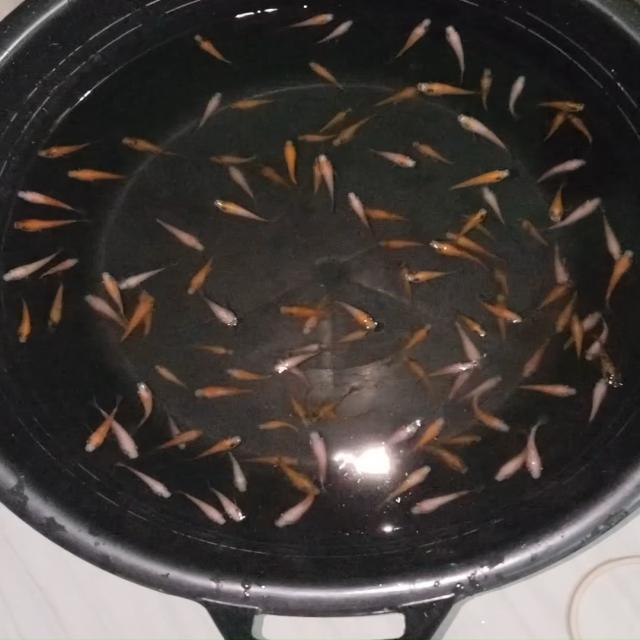nila: (93, 397, 142, 460), (372, 462, 430, 512), (1, 244, 68, 286), (82, 393, 124, 453), (547, 192, 606, 234), (456, 112, 514, 154), (408, 484, 481, 517), (428, 238, 491, 274), (16, 186, 88, 217), (398, 417, 446, 463), (82, 292, 132, 336), (387, 16, 432, 64), (118, 294, 160, 344), (600, 248, 634, 308), (119, 462, 170, 502), (272, 486, 318, 530), (445, 230, 508, 262), (590, 332, 624, 390), (152, 217, 208, 252), (452, 318, 487, 374), (453, 368, 504, 406), (307, 386, 358, 424), (212, 195, 276, 225), (195, 288, 240, 330), (186, 434, 248, 464), (118, 259, 176, 291), (472, 290, 525, 325), (468, 394, 513, 434), (398, 352, 440, 394), (206, 481, 248, 523), (494, 440, 535, 483), (422, 438, 470, 474), (181, 492, 229, 528), (560, 308, 602, 349), (524, 416, 550, 482), (278, 458, 322, 497), (346, 202, 414, 227), (118, 134, 182, 160), (332, 112, 378, 148), (96, 270, 129, 320), (334, 295, 379, 331), (442, 167, 512, 190), (306, 429, 330, 496), (532, 278, 570, 318), (532, 156, 586, 184), (150, 426, 204, 454), (40, 252, 92, 281), (189, 90, 223, 134), (298, 291, 330, 337), (186, 250, 218, 296), (268, 350, 329, 374), (476, 182, 510, 225), (542, 176, 570, 228), (444, 24, 468, 84), (522, 332, 552, 380), (443, 361, 475, 406), (460, 210, 501, 245), (546, 237, 574, 288), (380, 418, 422, 452), (344, 188, 372, 238), (369, 84, 422, 110), (450, 206, 488, 242), (397, 320, 435, 356), (228, 166, 261, 207), (304, 60, 349, 90), (308, 18, 356, 46), (192, 34, 234, 66), (11, 216, 77, 236), (584, 312, 610, 362), (252, 163, 295, 193), (586, 370, 609, 426), (131, 378, 154, 434), (223, 446, 251, 492), (45, 280, 68, 336), (34, 140, 92, 162), (551, 286, 577, 334), (318, 154, 339, 213), (515, 217, 551, 250), (332, 324, 376, 351), (411, 138, 456, 164), (596, 211, 620, 259), (426, 358, 474, 382), (153, 361, 190, 392), (222, 366, 279, 386), (416, 80, 486, 96), (66, 166, 136, 182), (190, 384, 260, 400), (367, 146, 417, 168), (235, 453, 308, 468), (280, 10, 334, 30), (294, 402, 348, 422), (278, 339, 332, 359), (282, 137, 302, 190), (278, 302, 344, 318), (14, 296, 36, 344), (529, 96, 587, 114), (492, 292, 512, 344), (396, 259, 418, 306), (138, 286, 157, 340), (562, 112, 596, 142), (317, 106, 352, 135), (276, 360, 312, 388), (421, 430, 483, 446), (284, 388, 310, 426), (226, 95, 277, 114), (456, 308, 488, 338), (187, 338, 239, 356), (517, 384, 581, 398), (167, 414, 190, 452), (509, 72, 527, 120), (566, 312, 584, 360), (205, 149, 262, 164), (308, 154, 326, 199), (542, 108, 565, 140), (253, 418, 302, 433), (402, 268, 453, 282), (371, 237, 428, 249), (488, 263, 510, 293), (480, 68, 493, 112), (298, 131, 340, 143)
